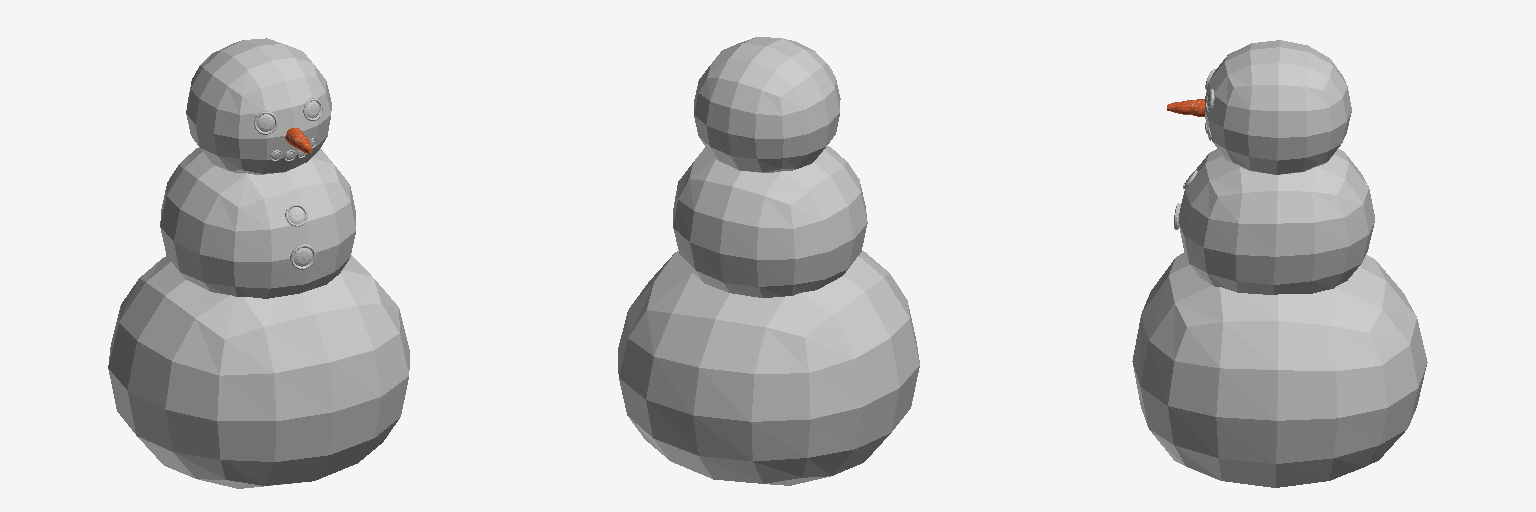
3 views of the same model, side by side, from view 1: azimuth 30°, elevation 25°; view 2: azimuth 150°, elevation 25°; view 3: azimuth 270°, elevation 25° (orthographic).
Visible parts, largest first — view 1: Cube, Cube.001, Cube.002; view 2: Cube, Cube.001, Cube.002; view 3: Cube, Cube.001, Cube.002.
Boxes of the visible parts, x1,y1,x2,y2 form: Cube: [108, 255, 409, 488]; Cube.001: [160, 147, 355, 298]; Cube.002: [186, 38, 331, 174]; Cube: [618, 251, 919, 485]; Cube.001: [673, 146, 867, 297]; Cube.002: [694, 37, 840, 172]; Cube: [1132, 252, 1427, 487]; Cube.001: [1178, 149, 1374, 294]; Cube.002: [1204, 40, 1351, 174].
Size of the model in its own units: 1.66 by 2.55 by 1.63.
3 materials, 1 textured.